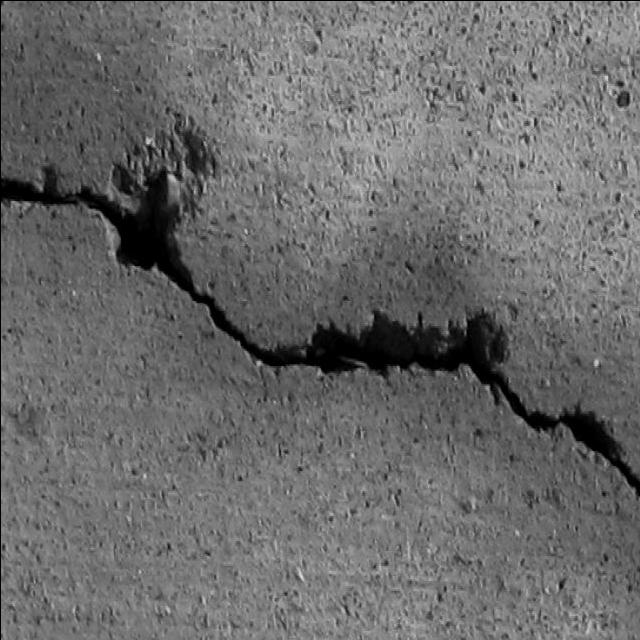SurfaceCrack: (1, 105, 640, 587)
